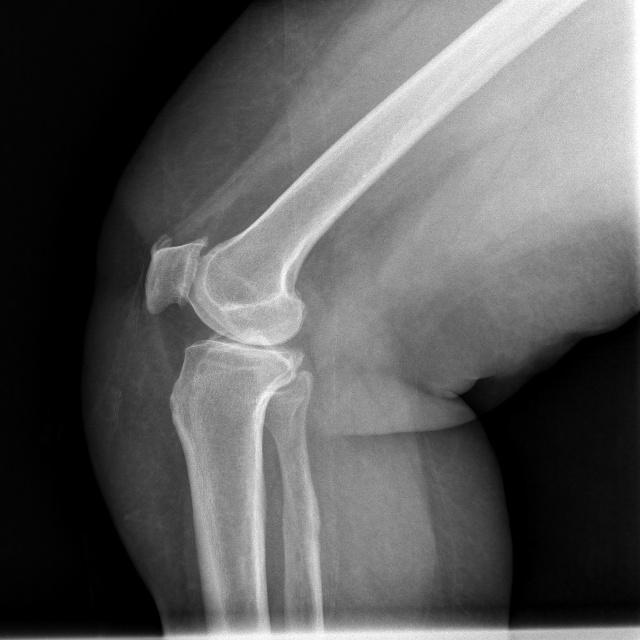Knee: (144, 238, 324, 414)
